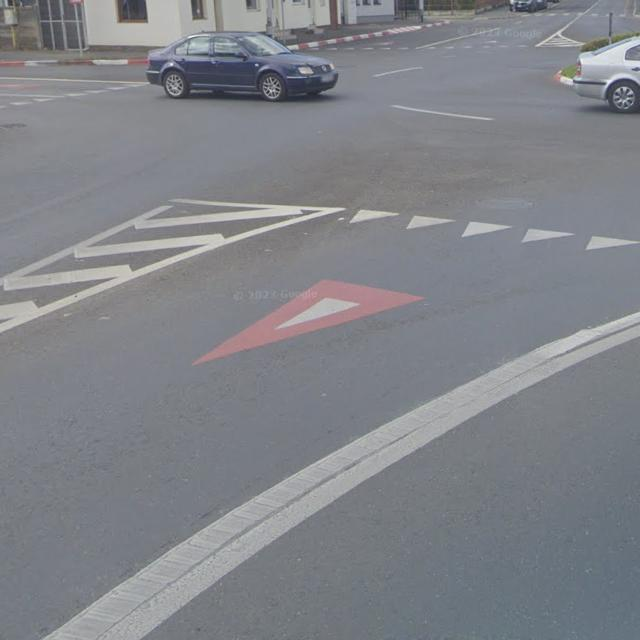prio_give_way: (189, 276, 425, 366)
